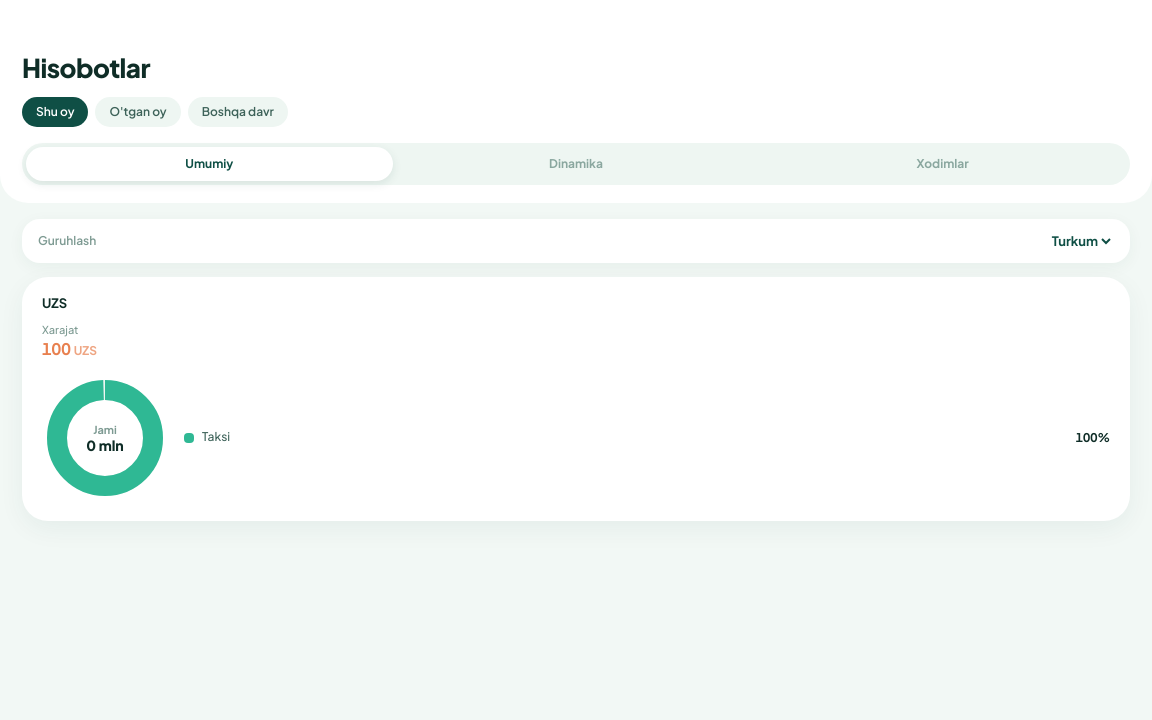
Test: switches to the staff comparison for a manager
Expected: the element with test id "currency-UZS" is shown, [22, 277, 1130, 521]
Click the button "Xodimlar". click: point(943, 164)
box: [759, 147, 1126, 181]
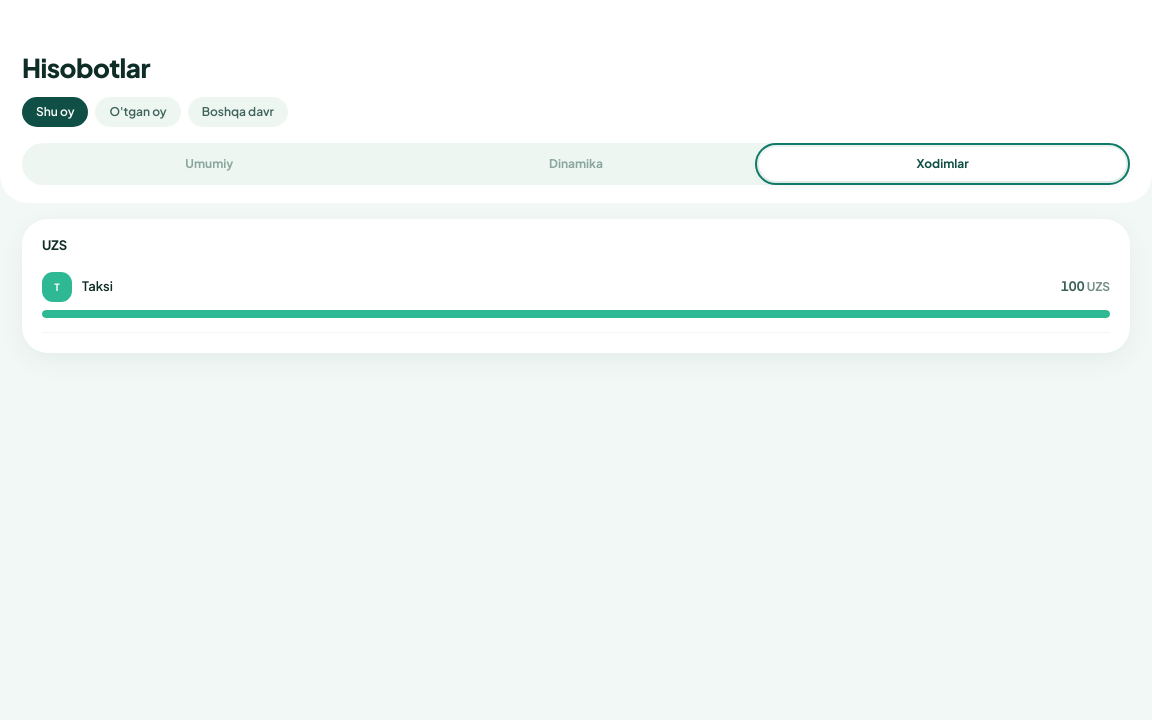
Expected: the number of list items with test id "staff-row" is 1, [42, 258, 1110, 333]
